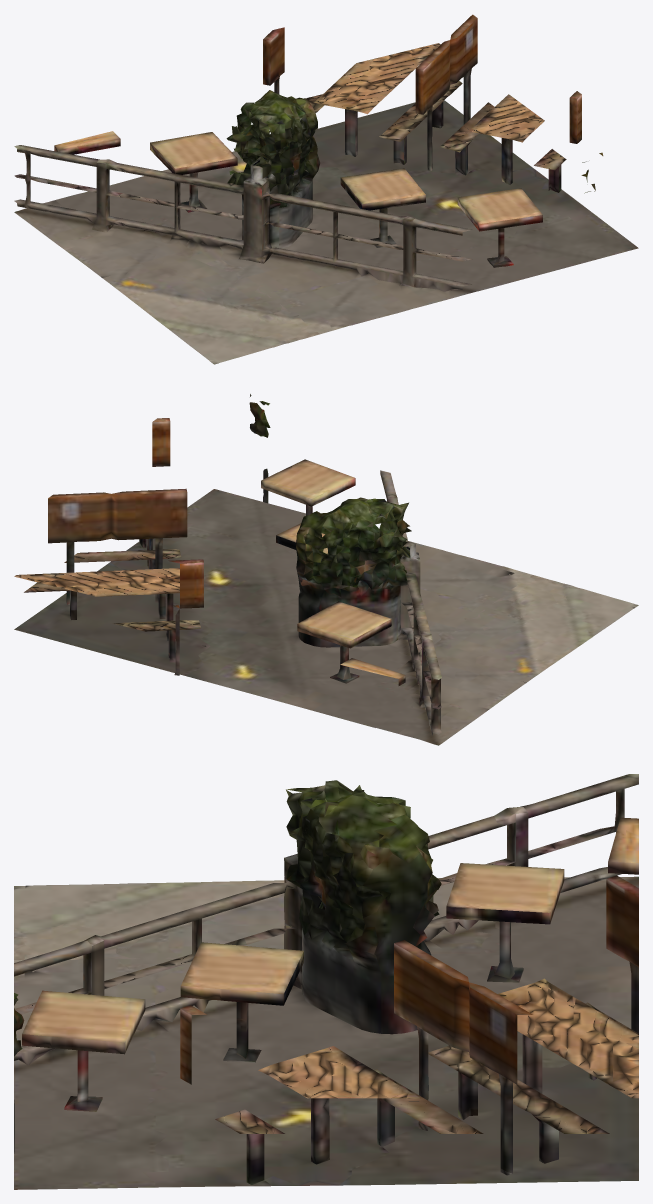
3 renders of one model, top to bottom at view 1: azimuth 30°, elevation 25°; view 2: azimuth 150°, elevation 25°; view 3: azimuth 270°, elevation 25°, orthographic. The views are drawn at different scales.
Bounding box in the file's own units: 6.37 × 2.05 × 5.19.
1 material, 1 textured.
